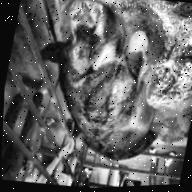boar: (22, 0, 192, 181)
